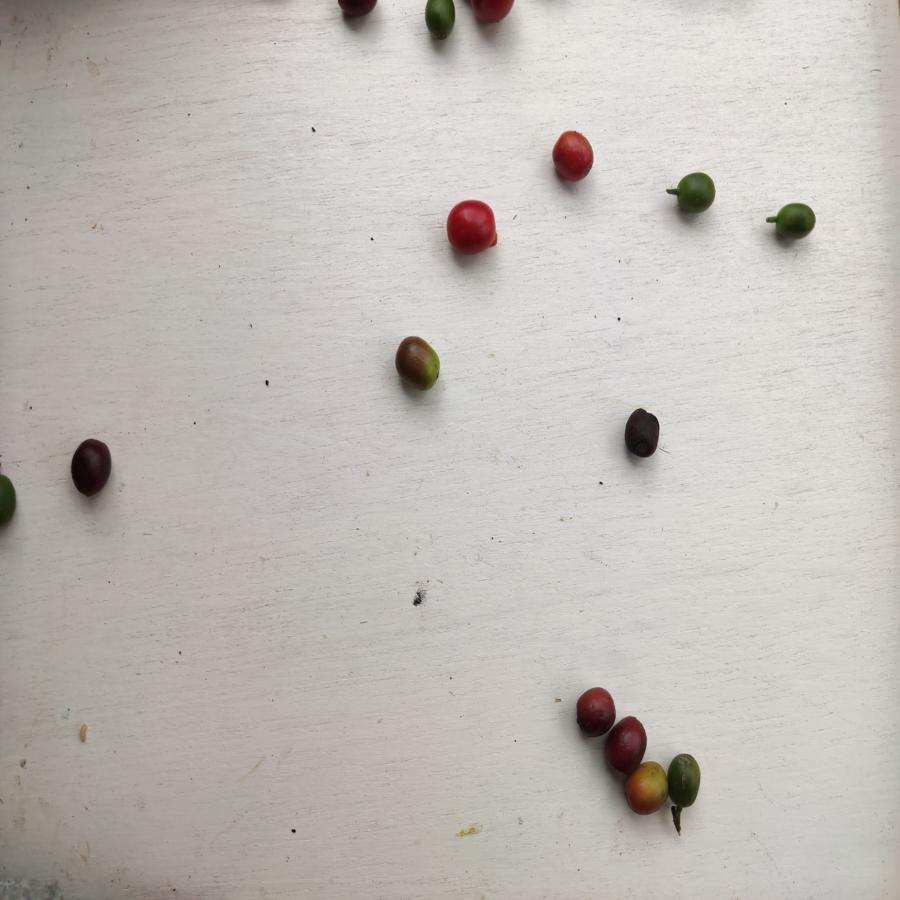Inmaduro: (667, 752, 707, 813), (665, 169, 716, 216), (769, 202, 820, 245), (421, 1, 459, 44), (1, 467, 16, 534)
Maduro: (445, 199, 501, 262), (549, 126, 601, 186), (465, 1, 522, 31)
Pinton: (393, 337, 445, 397), (626, 765, 668, 812)
Sobremaduro: (69, 436, 117, 501), (618, 405, 665, 459), (606, 714, 647, 772), (574, 685, 615, 739)
